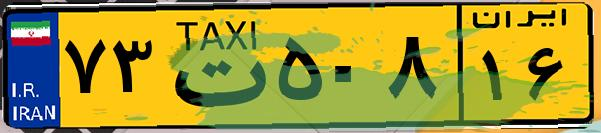0: (330, 28, 385, 110)
1: (475, 38, 525, 113)
3: (110, 28, 158, 98)
5: (270, 28, 330, 110)
6: (525, 38, 570, 115)
7: (57, 26, 110, 100)
8: (385, 28, 445, 110)
ت: (158, 12, 270, 120)
